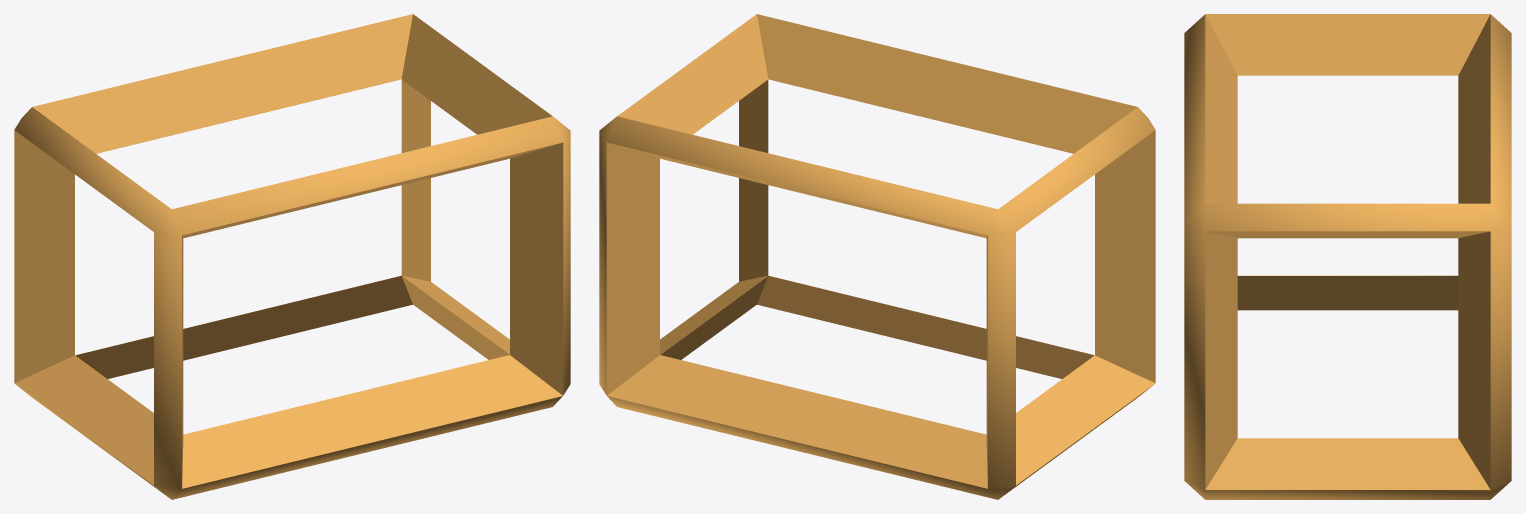
The model's file is CubeMesh_02.fbx.
3 renders of one model, left to right at view 1: azimuth 30°, elevation 25°; view 2: azimuth 150°, elevation 25°; view 3: azimuth 270°, elevation 25°, orthographic.
Visible parts, largest first — view 1: CubeMesh_02; view 2: CubeMesh_02; view 3: CubeMesh_02.
Part boxes in pixels (x1,y1,x2,y2): CubeMesh_02: (14,14,570,499); CubeMesh_02: (599,14,1155,499); CubeMesh_02: (1184,14,1511,499).
Size of the model in its own units: 351 by 234 by 234.
